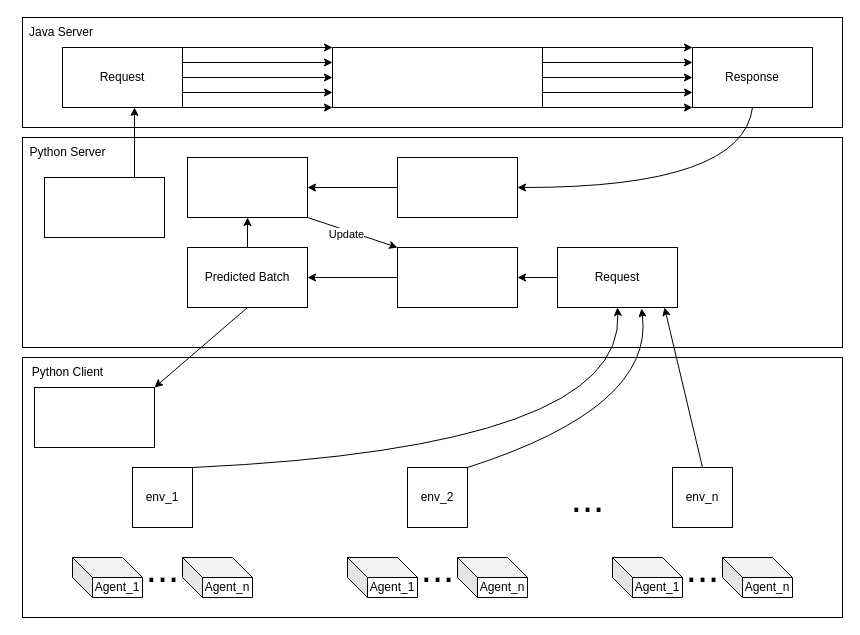
Image size: 860x635. Some labels were removed from this diagram. The shapes that lost their labels are listed below. From the top down, each one's centre as x and y in pixels, then its label:
point (437, 77): MATSIM Server
point (104, 207): Sample Charger Configurations
point (247, 187): Loss
point (457, 187): Target Batch
point (457, 277): SimLearner GNN
point (94, 417): Reward
